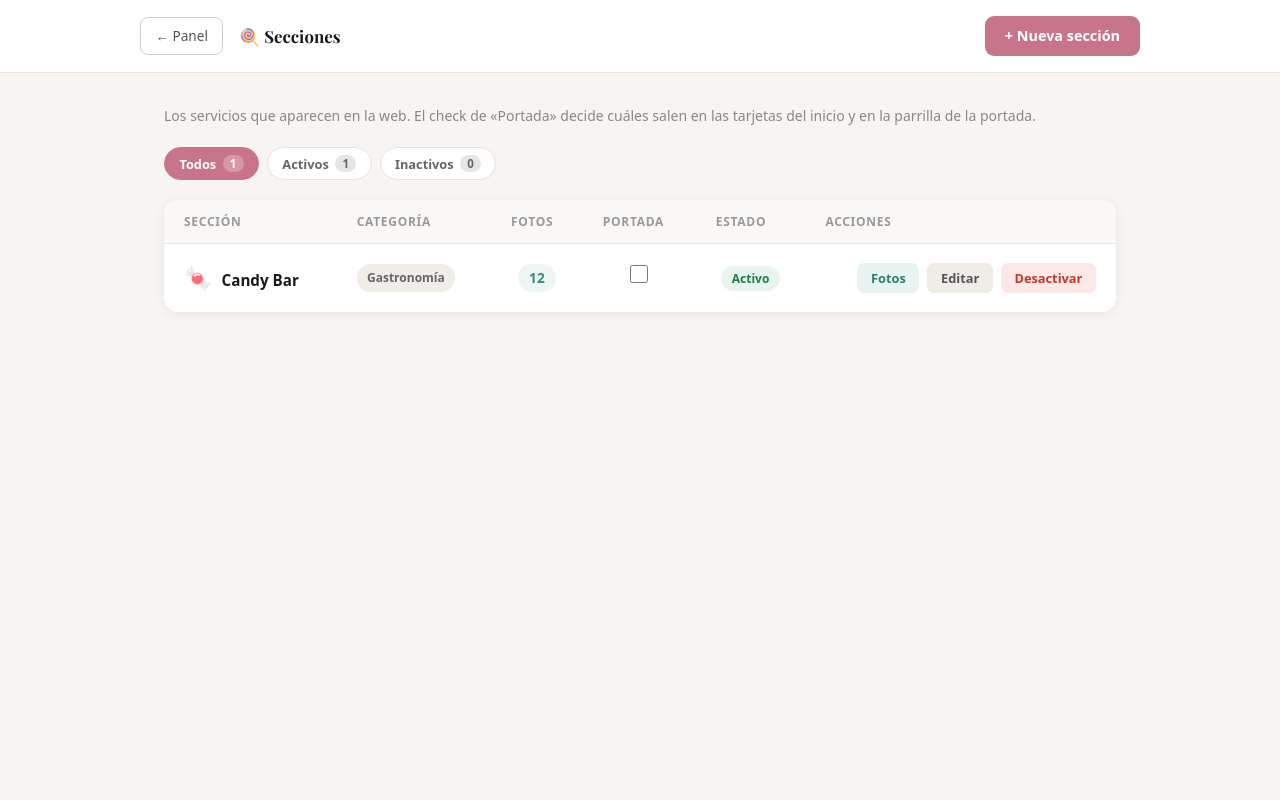
Scenario: AdminServicesPage — modal de edición de sección › abre el modal con la descripción y las características guardadas
The width and height of the screenshot is (1280, 800).
Click the button with class "btn-action--edit": (960, 278) [927,263,993,294]
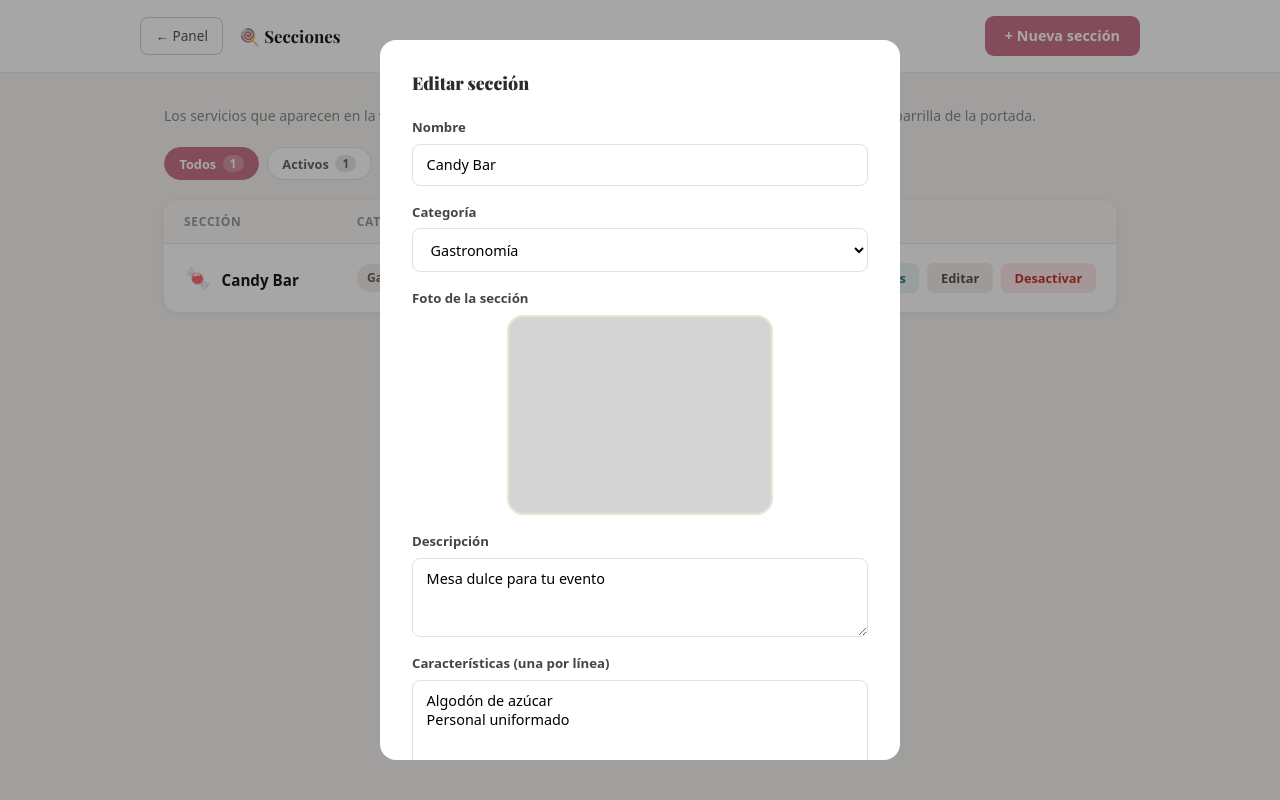
Check: the text box labelled "Descripción" holds "Mesa dulce para tu evento", box [412,558,868,637]
